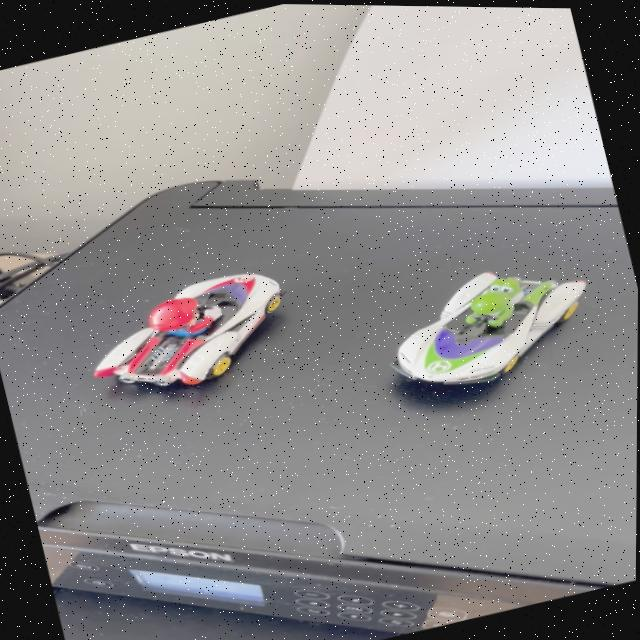mario: (61, 252, 318, 417)
yoshi: (358, 237, 614, 419)
